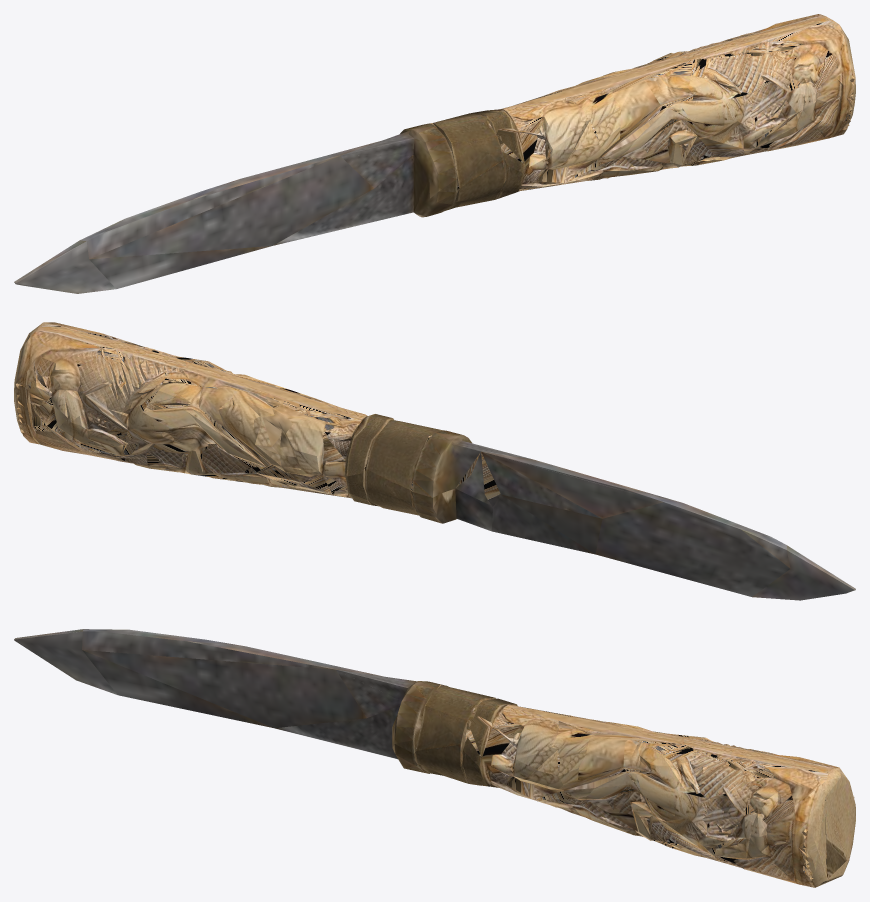
Rendered from e4meedmor.glb.
The picture shows the model from 3 angles, top to bottom: view 1: azimuth 30°, elevation 25°; view 2: azimuth 150°, elevation 25°; view 3: azimuth 330°, elevation 25°; orthographic projection.
Parts seen in each view (by area): view 1: e4meedmor_near, e4meedmor_far; view 2: e4meedmor_near, e4meedmor_far; view 3: e4meedmor_near, e4meedmor_far.
Boxes of the visible parts, bbox=[...] form: e4meedmor_near: bbox=[14, 14, 855, 293]; e4meedmor_far: bbox=[340, 20, 851, 215]; e4meedmor_near: bbox=[14, 322, 855, 600]; e4meedmor_far: bbox=[25, 322, 663, 518]; e4meedmor_near: bbox=[14, 629, 855, 887]; e4meedmor_far: bbox=[336, 670, 849, 880].
Size of the model in its own units: 0.17 by 0.0227 by 0.0192.
Materials: 1 (1 with a texture image).
